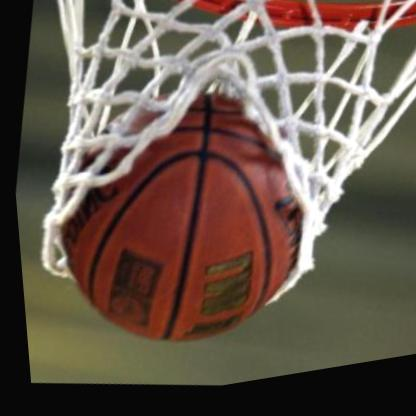basketball: (21, 56, 334, 384)
rim: (85, 0, 416, 93)
